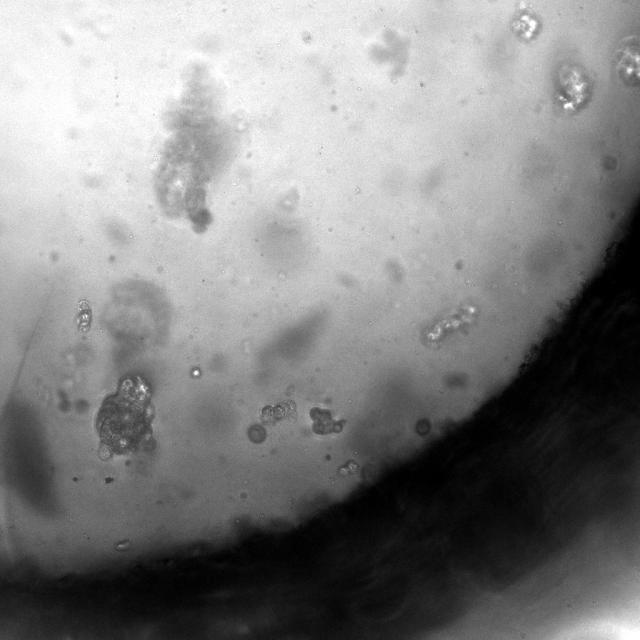organoid: (153, 59, 239, 230), (94, 374, 155, 460), (419, 304, 479, 344), (553, 64, 591, 113), (614, 36, 639, 86), (512, 8, 541, 41), (310, 407, 343, 435), (259, 400, 297, 423), (76, 300, 91, 333), (413, 417, 432, 436), (248, 423, 266, 443), (338, 459, 359, 475), (58, 390, 71, 411), (74, 399, 89, 413)
